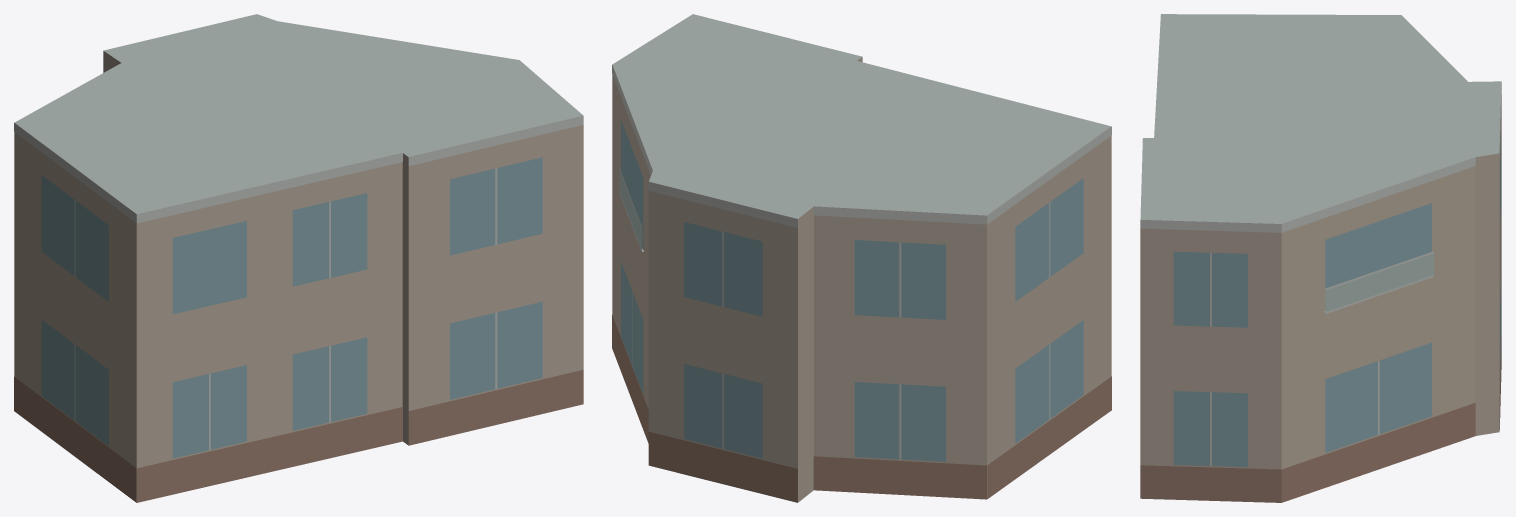
File: survey-upis-32493927.glb
3 views of the same model, side by side, from view 1: azimuth 30°, elevation 25°; view 2: azimuth 150°, elevation 25°; view 3: azimuth 270°, elevation 25° (orthographic). The views are drawn at different scales.
Parts seen in each view (by area): view 1: survey-upis-32493927.tmp; view 2: survey-upis-32493927.tmp; view 3: survey-upis-32493927.tmp.
Boxes of the visible parts, bbox=[...] form: survey-upis-32493927.tmp: bbox=[14, 14, 583, 502]; survey-upis-32493927.tmp: bbox=[612, 14, 1111, 502]; survey-upis-32493927.tmp: bbox=[1140, 14, 1501, 502].
Size of the model in its own units: 12.45 by 7.7 by 9.05.
